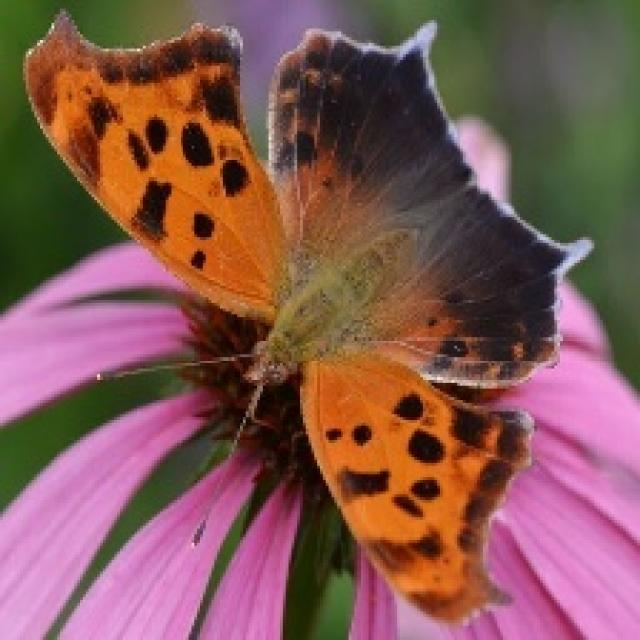butterfly: (17, 6, 594, 631)
